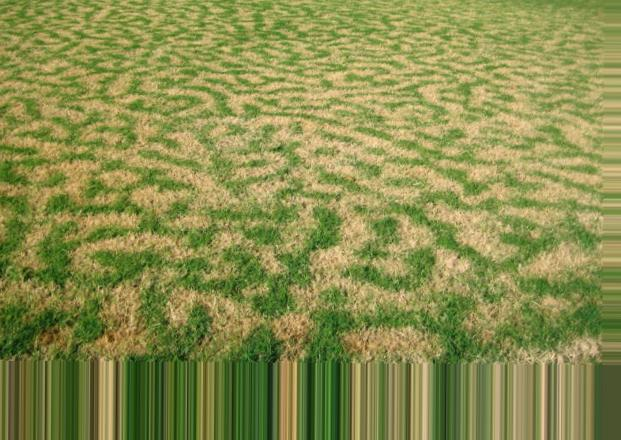patch: (375, 329, 428, 358), (222, 309, 247, 338), (355, 284, 389, 304), (185, 175, 214, 198), (115, 285, 144, 308), (330, 245, 355, 271), (180, 292, 218, 305), (110, 315, 122, 356), (67, 162, 83, 192), (128, 320, 141, 353), (436, 254, 454, 276), (255, 178, 272, 201), (388, 185, 414, 199), (280, 314, 298, 334), (300, 148, 318, 165), (111, 172, 125, 186), (112, 244, 156, 248), (347, 214, 358, 227)
